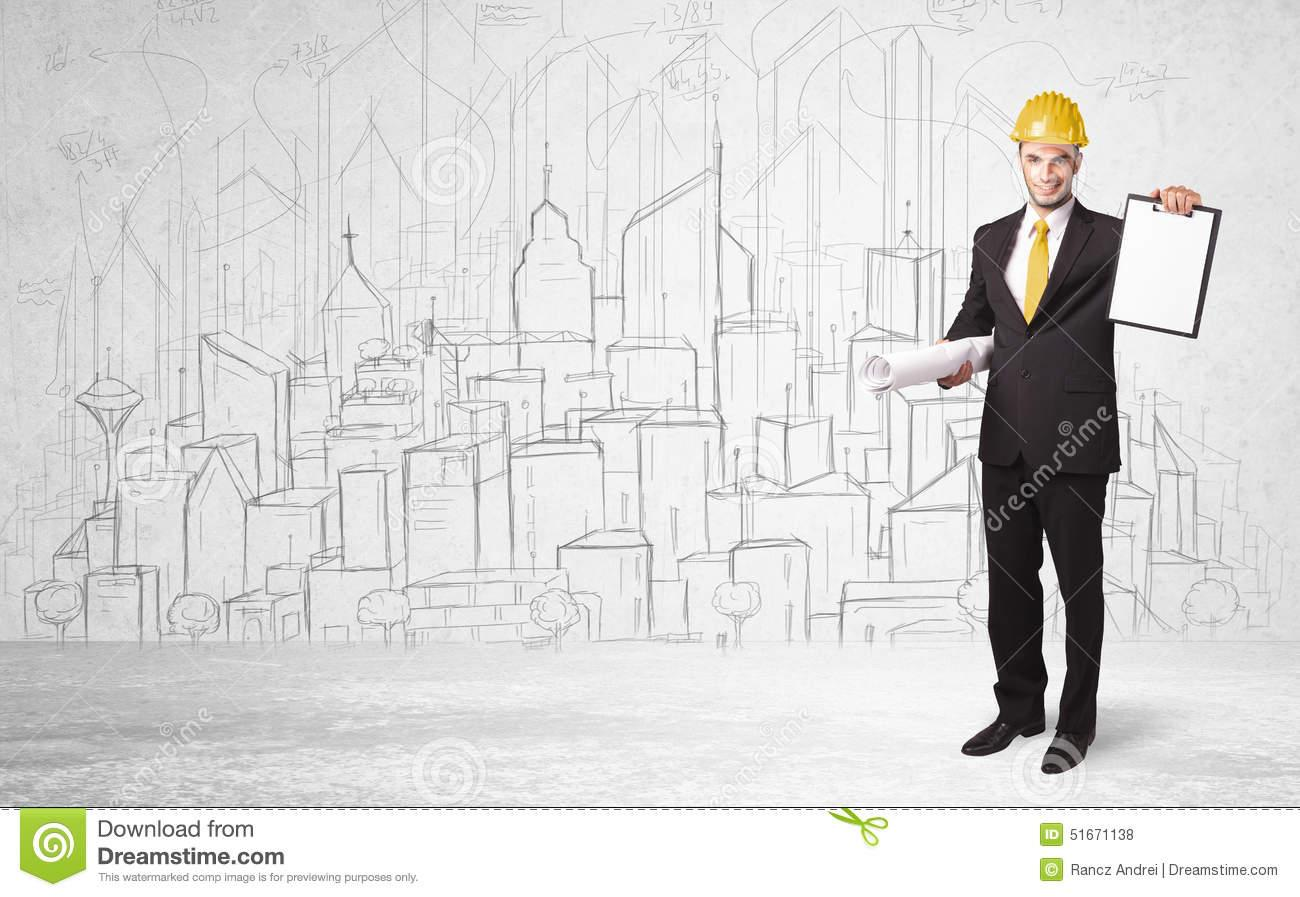helmet: (1011, 90, 1093, 147)
